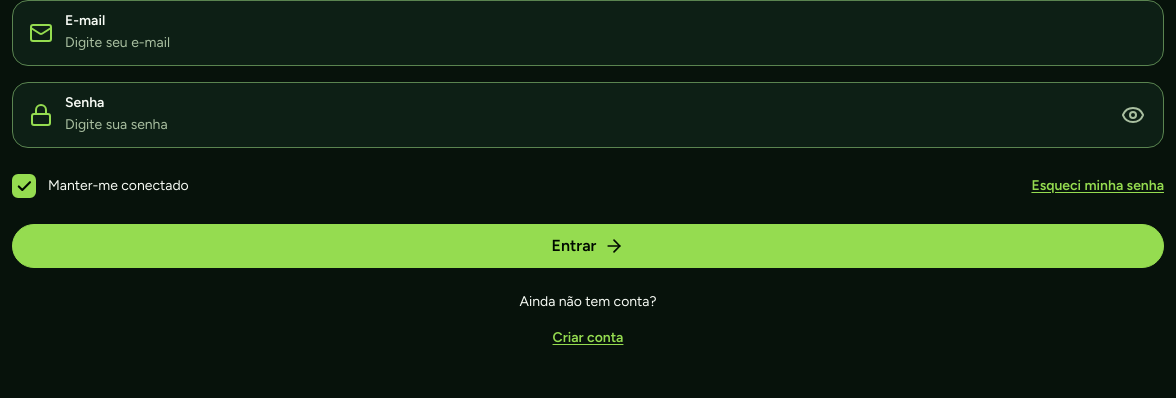
EntrarForm › e-mail ou senha errados mostram o mesmo aviso, sem dizer qual está errado
Type "ana@exemplo.com" into the field labelled "E-mail" at (606, 43), box [65, 31, 1147, 55]
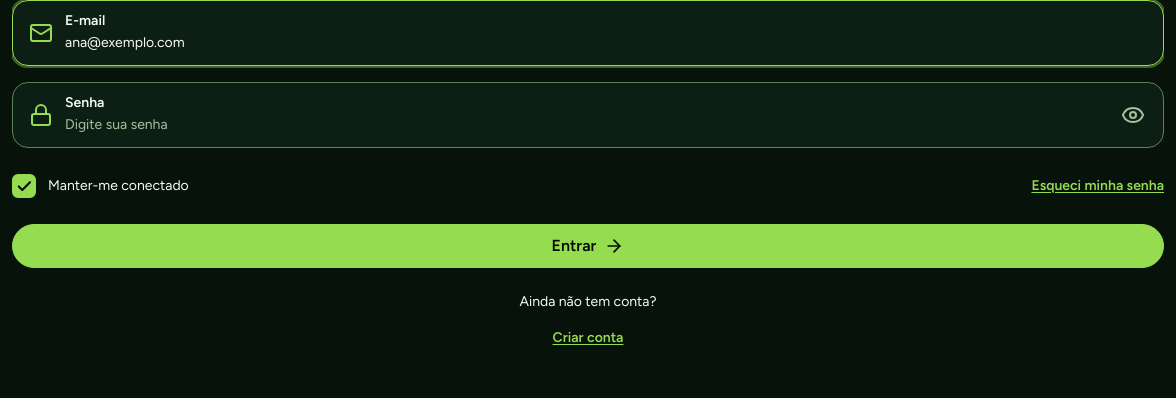
Type "qualquer" into the password field labelled "Senha" at (582, 125), box [65, 113, 1099, 137]
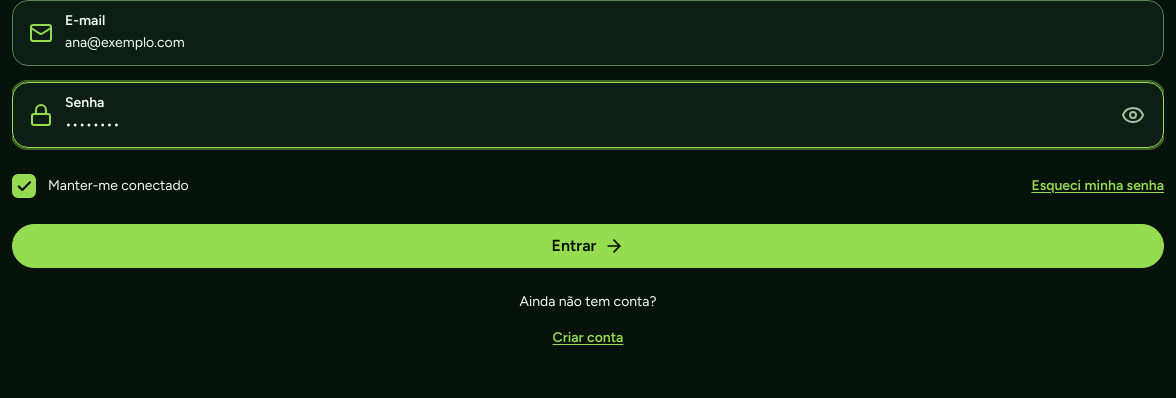
Click the button "Entrar" at (588, 246), box [12, 224, 1164, 268]
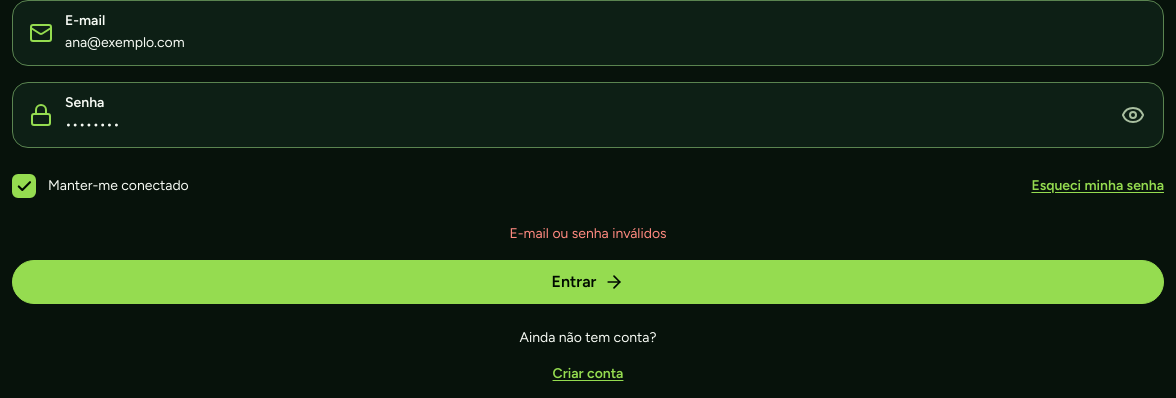
expect the text "E-mail ou senha inválidos" is shown: met, box [509, 225, 666, 242]
